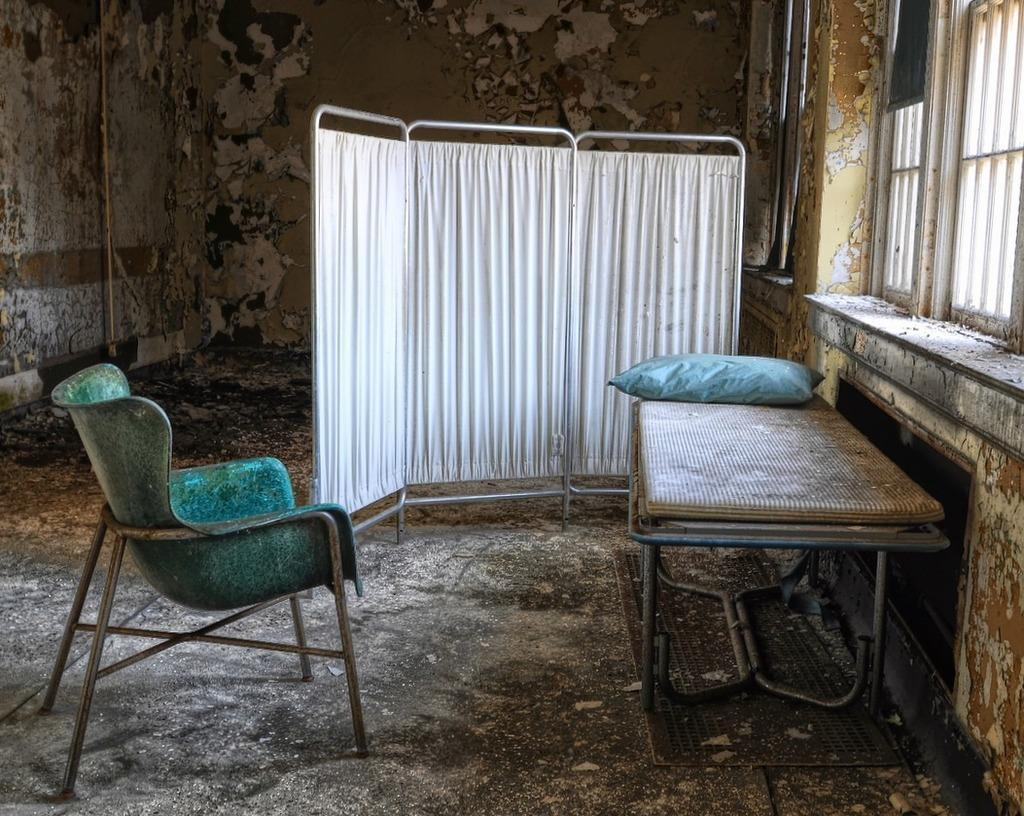Chair: (31, 361, 369, 801)
